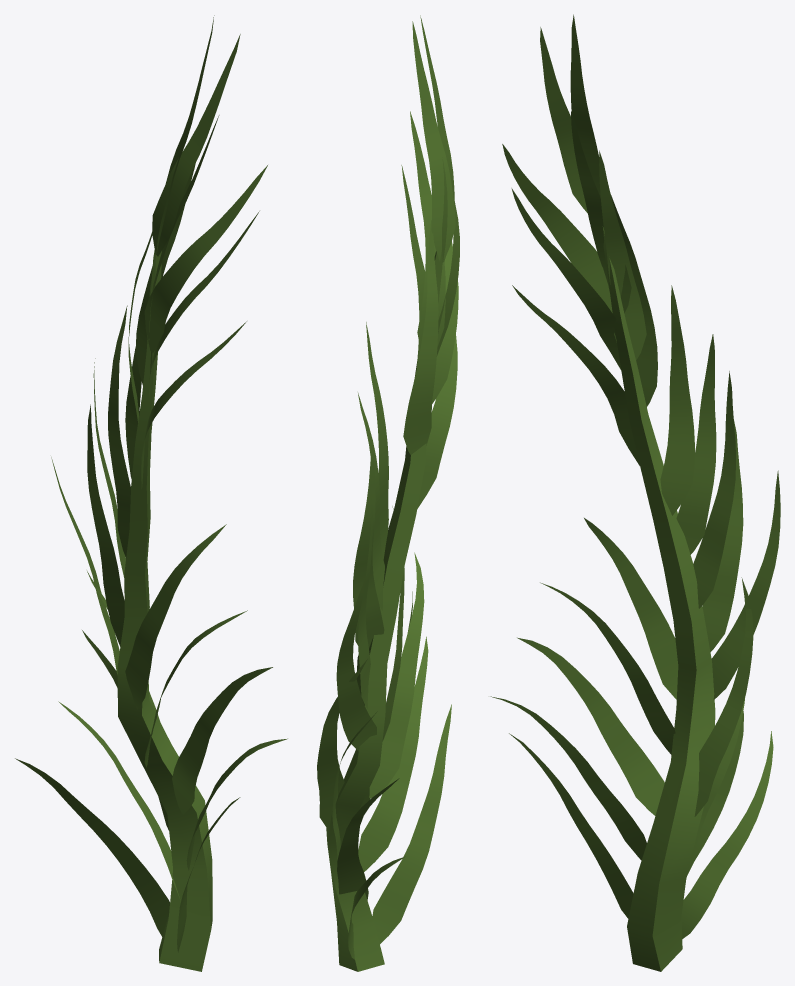
The model's file is plant_swamp_kelp_floor_B.fbx.
3 renders of one model, left to right at view 1: azimuth 30°, elevation 25°; view 2: azimuth 150°, elevation 25°; view 3: azimuth 270°, elevation 25°, orthographic. The views are drawn at different scales.
Parts seen in each view (by area): view 1: plant_swamp_kelp_floor_B; view 2: plant_swamp_kelp_floor_B; view 3: plant_swamp_kelp_floor_B.
Boxes of the visible parts, x1=… form: plant_swamp_kelp_floor_B: x1=15, y1=15, x2=287, y2=971; plant_swamp_kelp_floor_B: x1=317, y1=15, x2=459, y2=971; plant_swamp_kelp_floor_B: x1=490, y1=14, x2=780, y2=971.
Bounding box in the file's own units: 36.31 × 245 × 68.9.
